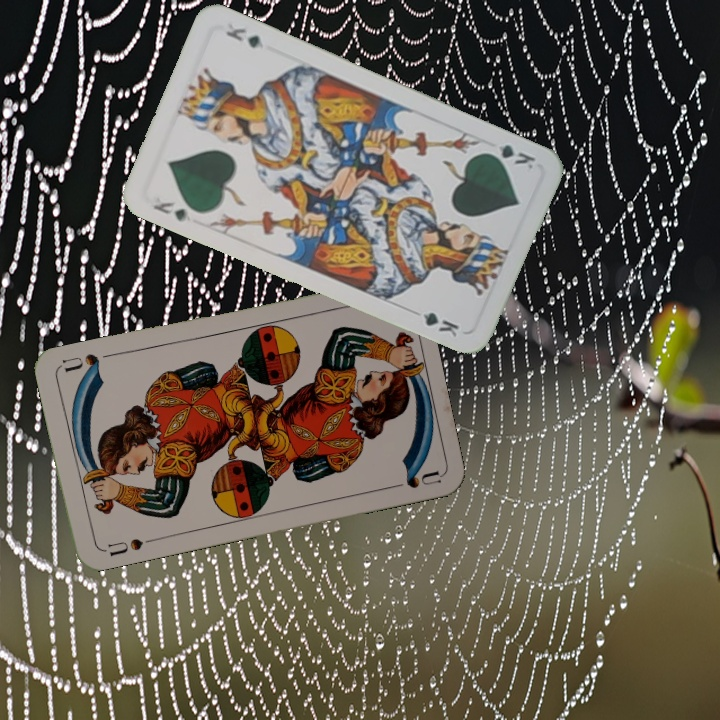GK: (480, 140, 538, 172), (148, 197, 195, 224)
SU: (98, 534, 157, 559)
